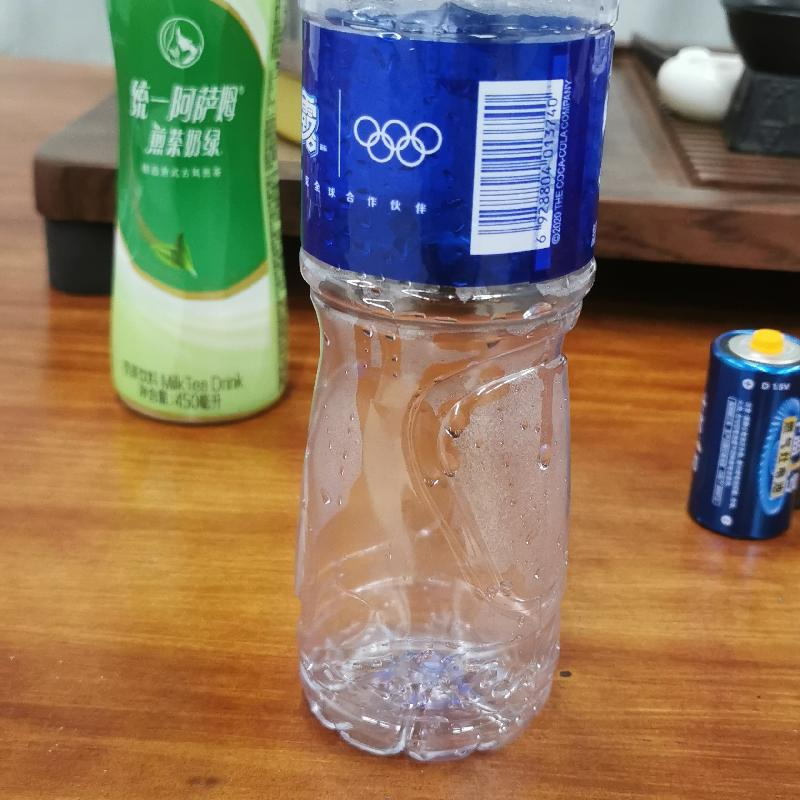bottles: (290, 0, 613, 770)
